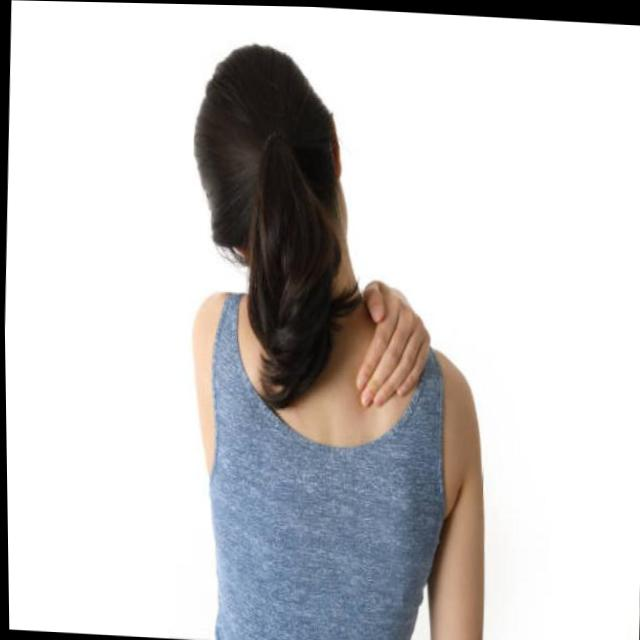no helmet: (174, 36, 361, 280)
